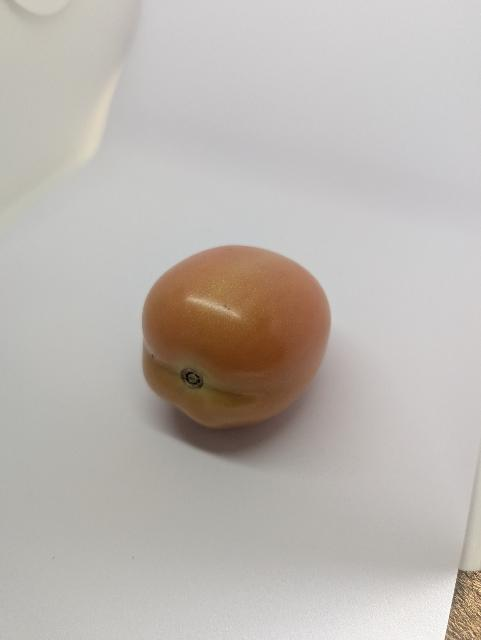turning: (124, 237, 370, 452)
